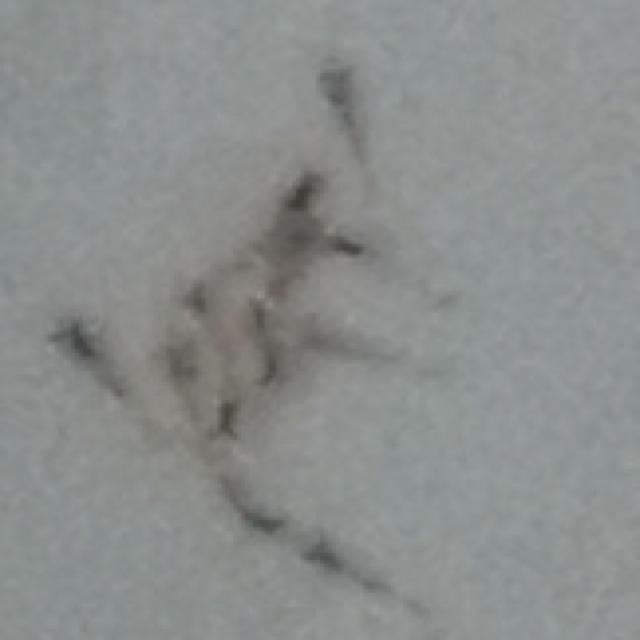shrimp-seed: (294, 530, 392, 596), (218, 483, 294, 543), (44, 314, 112, 378), (172, 274, 230, 330), (194, 396, 254, 449), (151, 335, 205, 391), (278, 168, 330, 224), (321, 222, 377, 270), (281, 314, 347, 354), (234, 295, 286, 345), (312, 60, 359, 110), (250, 353, 300, 399), (276, 233, 321, 270)
